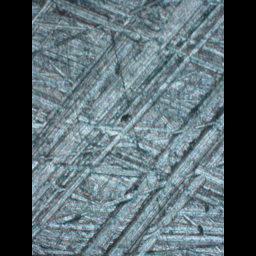d: (32, 5, 222, 256)
